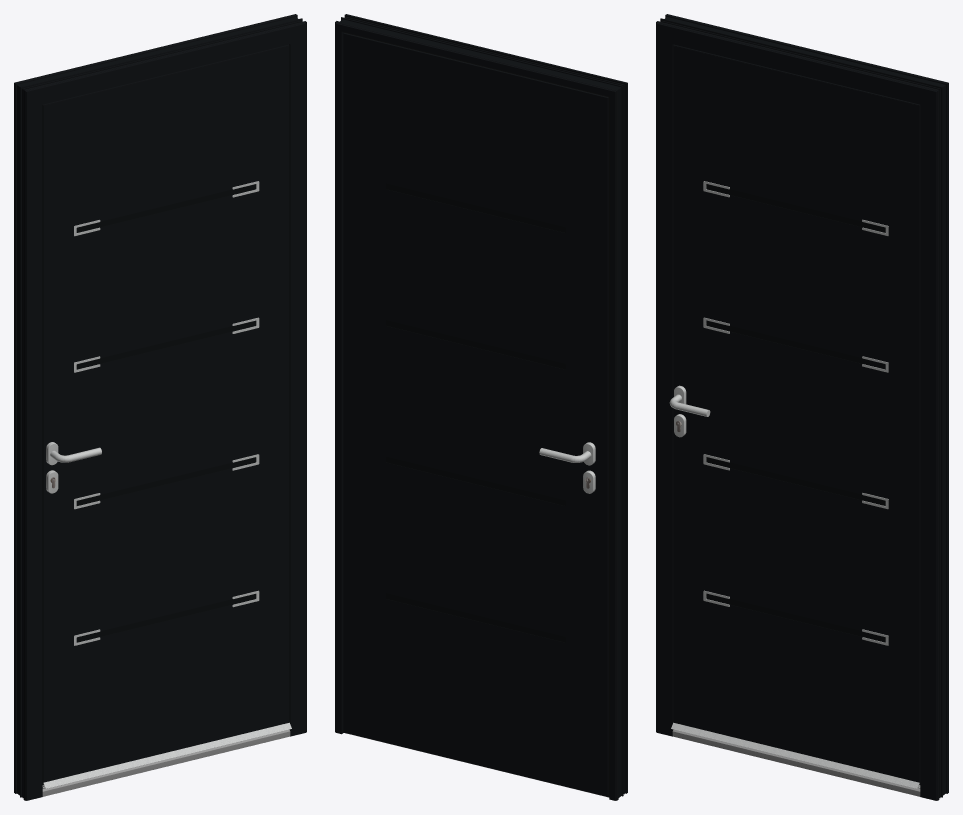
3 views of the same model, side by side, from view 1: azimuth 30°, elevation 25°; view 2: azimuth 150°, elevation 25°; view 3: azimuth 330°, elevation 25° (orthographic).
Visible parts, largest first — view 1: bloco_47, aroFixo, aroMovel, rodapé, escovas, alunox_31, puxador001; view 2: bloco_47, aroFixo, aroMovel, puxador; view 3: bloco_47, aroFixo, aroMovel, rodapé, escovas, alunox_31, puxador001.
Boxes of the visible parts, bbox=[...] form: bloco_47: bbox=[44, 46, 289, 782]; aroFixo: bbox=[14, 14, 306, 800]; aroMovel: bbox=[42, 44, 289, 784]; rodapé: bbox=[42, 729, 290, 796]; escovas: bbox=[42, 722, 291, 788]; alunox_31: bbox=[74, 181, 259, 645]; puxador001: bbox=[46, 442, 101, 493]; bloco_47: bbox=[344, 34, 607, 796]; aroFixo: bbox=[335, 14, 627, 800]; aroMovel: bbox=[343, 32, 609, 796]; puxador: bbox=[539, 442, 595, 493]; bloco_47: bbox=[673, 46, 918, 782]; aroFixo: bbox=[656, 14, 948, 800]; aroMovel: bbox=[673, 44, 920, 784]; rodapé: bbox=[672, 729, 920, 796]; escovas: bbox=[671, 722, 920, 788]; alunox_31: bbox=[703, 181, 888, 645]; puxador001: bbox=[669, 385, 710, 437].
Size of the model in its own units: 900 by 2165 by 209.
8 materials, 3 textured.
